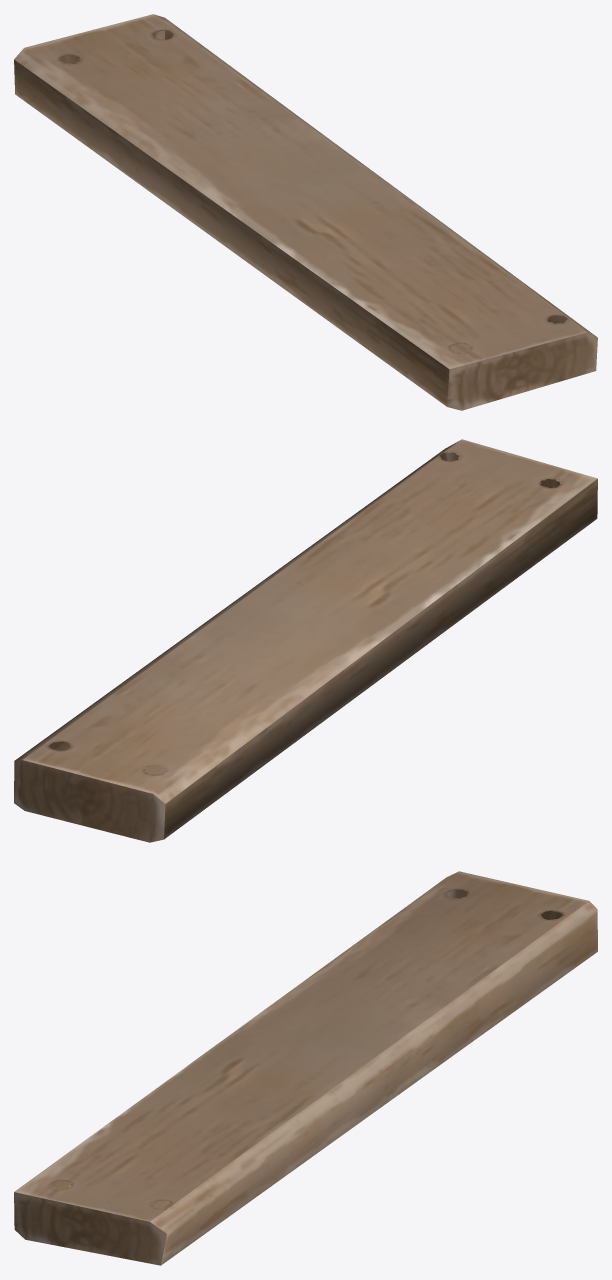
Rendered from Board.fbx.
The picture shows the model from 3 angles, top to bottom: view 1: azimuth 30°, elevation 25°; view 2: azimuth 150°, elevation 25°; view 3: azimuth 330°, elevation 25°; orthographic projection.
Parts seen in each view (by area): view 1: Board; view 2: Board; view 3: Board.
Part boxes in pixels (x1,y1,x2,y2): Board: [14, 14, 597, 410]; Board: [14, 439, 597, 842]; Board: [14, 871, 597, 1265].
Bounding box in the file's own units: 0.1256 × 0.0389 × 0.6173.
